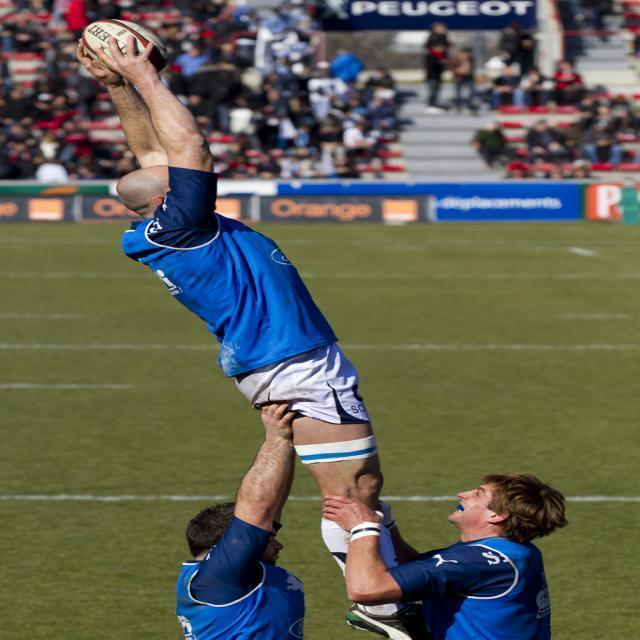ball: (81, 19, 173, 64)
